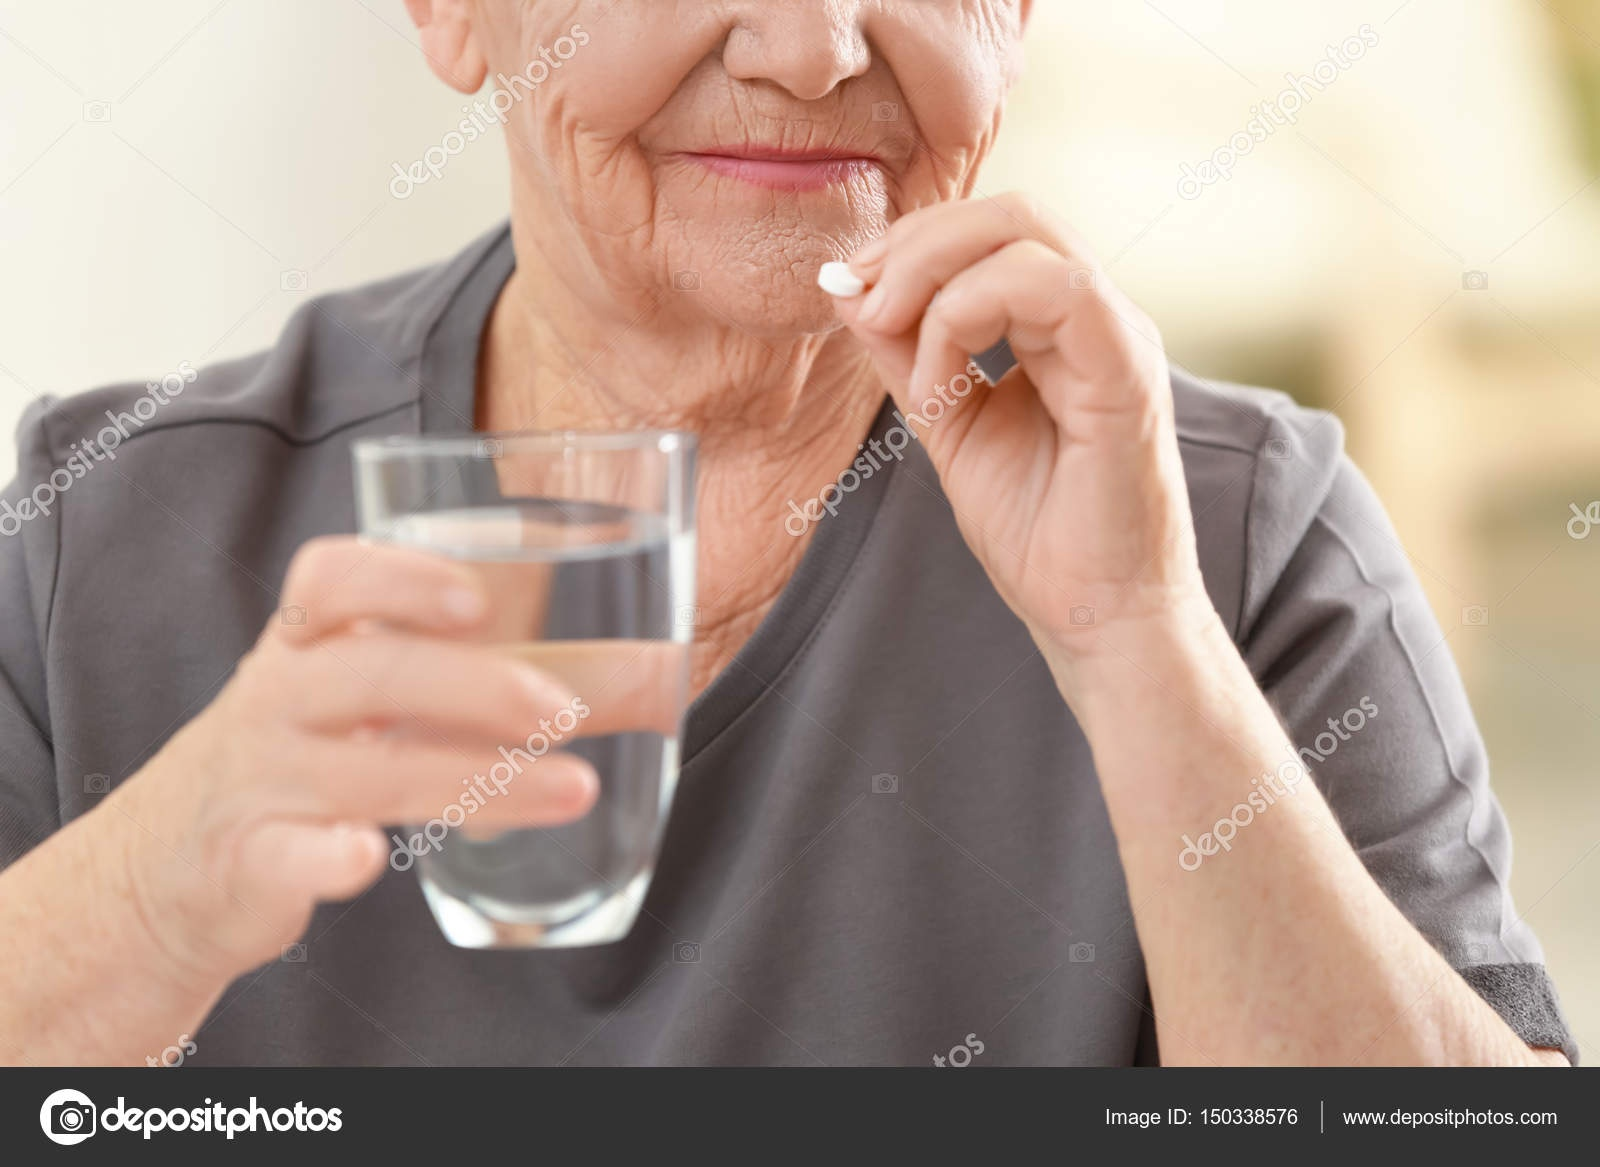pills: (805, 251, 875, 307)
